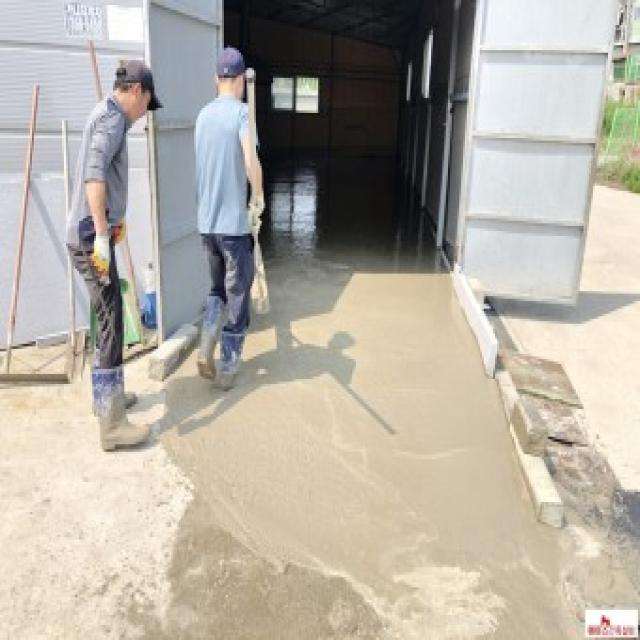long handle float: (87, 40, 158, 362), (0, 84, 70, 384), (245, 68, 271, 317)
rainboot: (90, 365, 151, 451), (198, 297, 227, 379), (216, 327, 245, 390)
